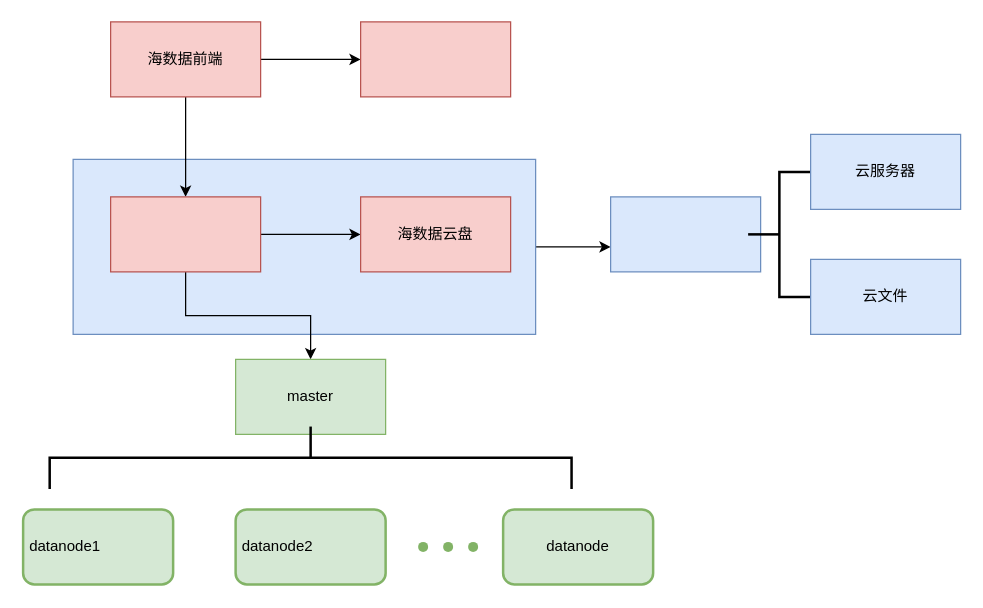
The diagram is 983 pixels wide and 608 high, and some of its shapes have lost their labels. Each missing label, with the box of its shape:
公有云:AWS: (609, 196, 761, 272)
海数据云桌面: (109, 196, 261, 272)
海数据后端: (359, 21, 511, 97)
